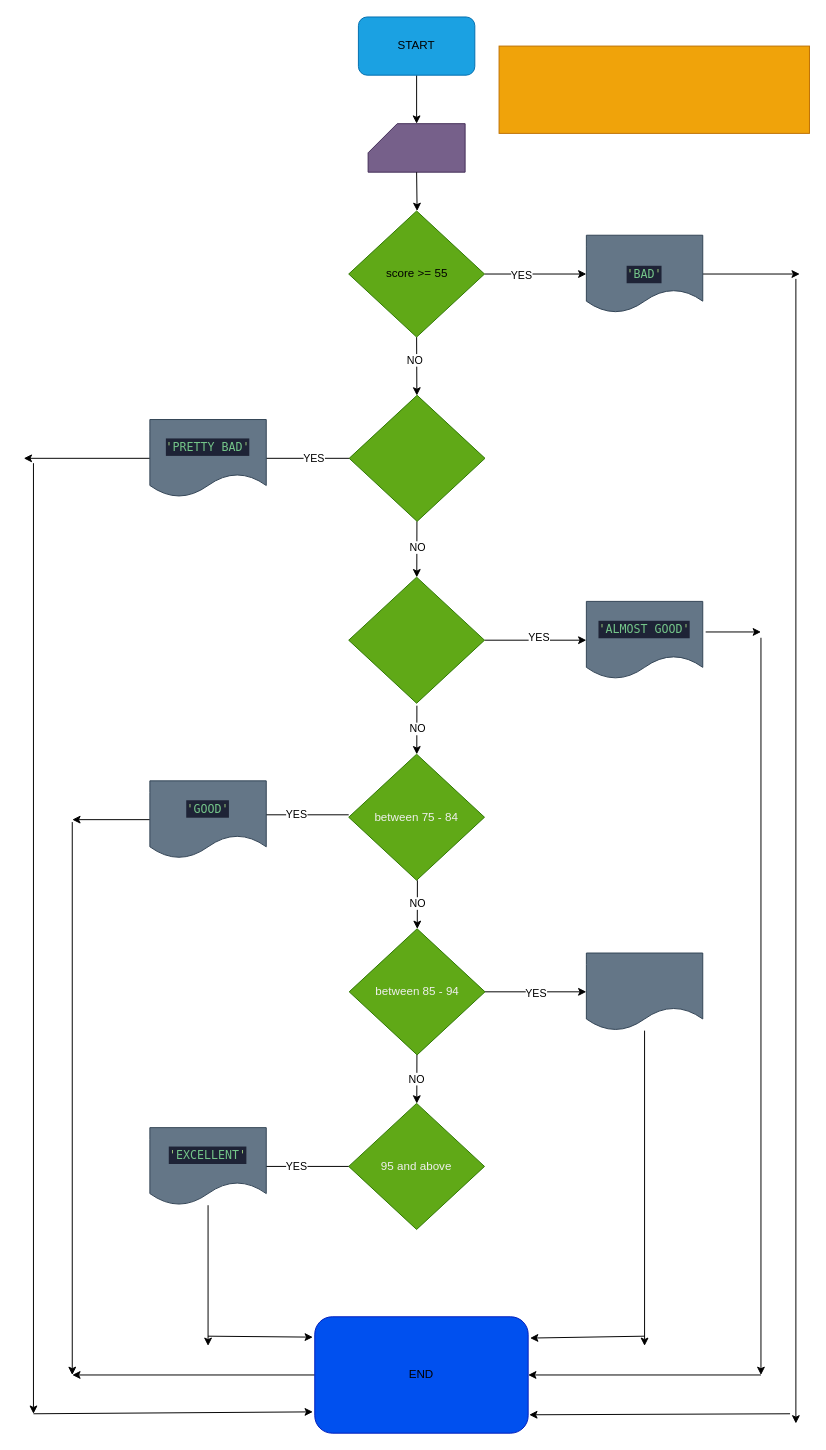
Some shapes in this 826 by 1450 pixel diagram are drawn without their labels. Here are the shapes that lost their labels. From the top down, the centre of each, then its label:
the point at 653,89: Ask for a score Print a verbal evaluation according to the grade obtained
the point at 416,147: score
the point at 416,457: between 55- 64
the point at 416,639: between 65 - 74
the point at 644,991: ' VERY GOOD '
